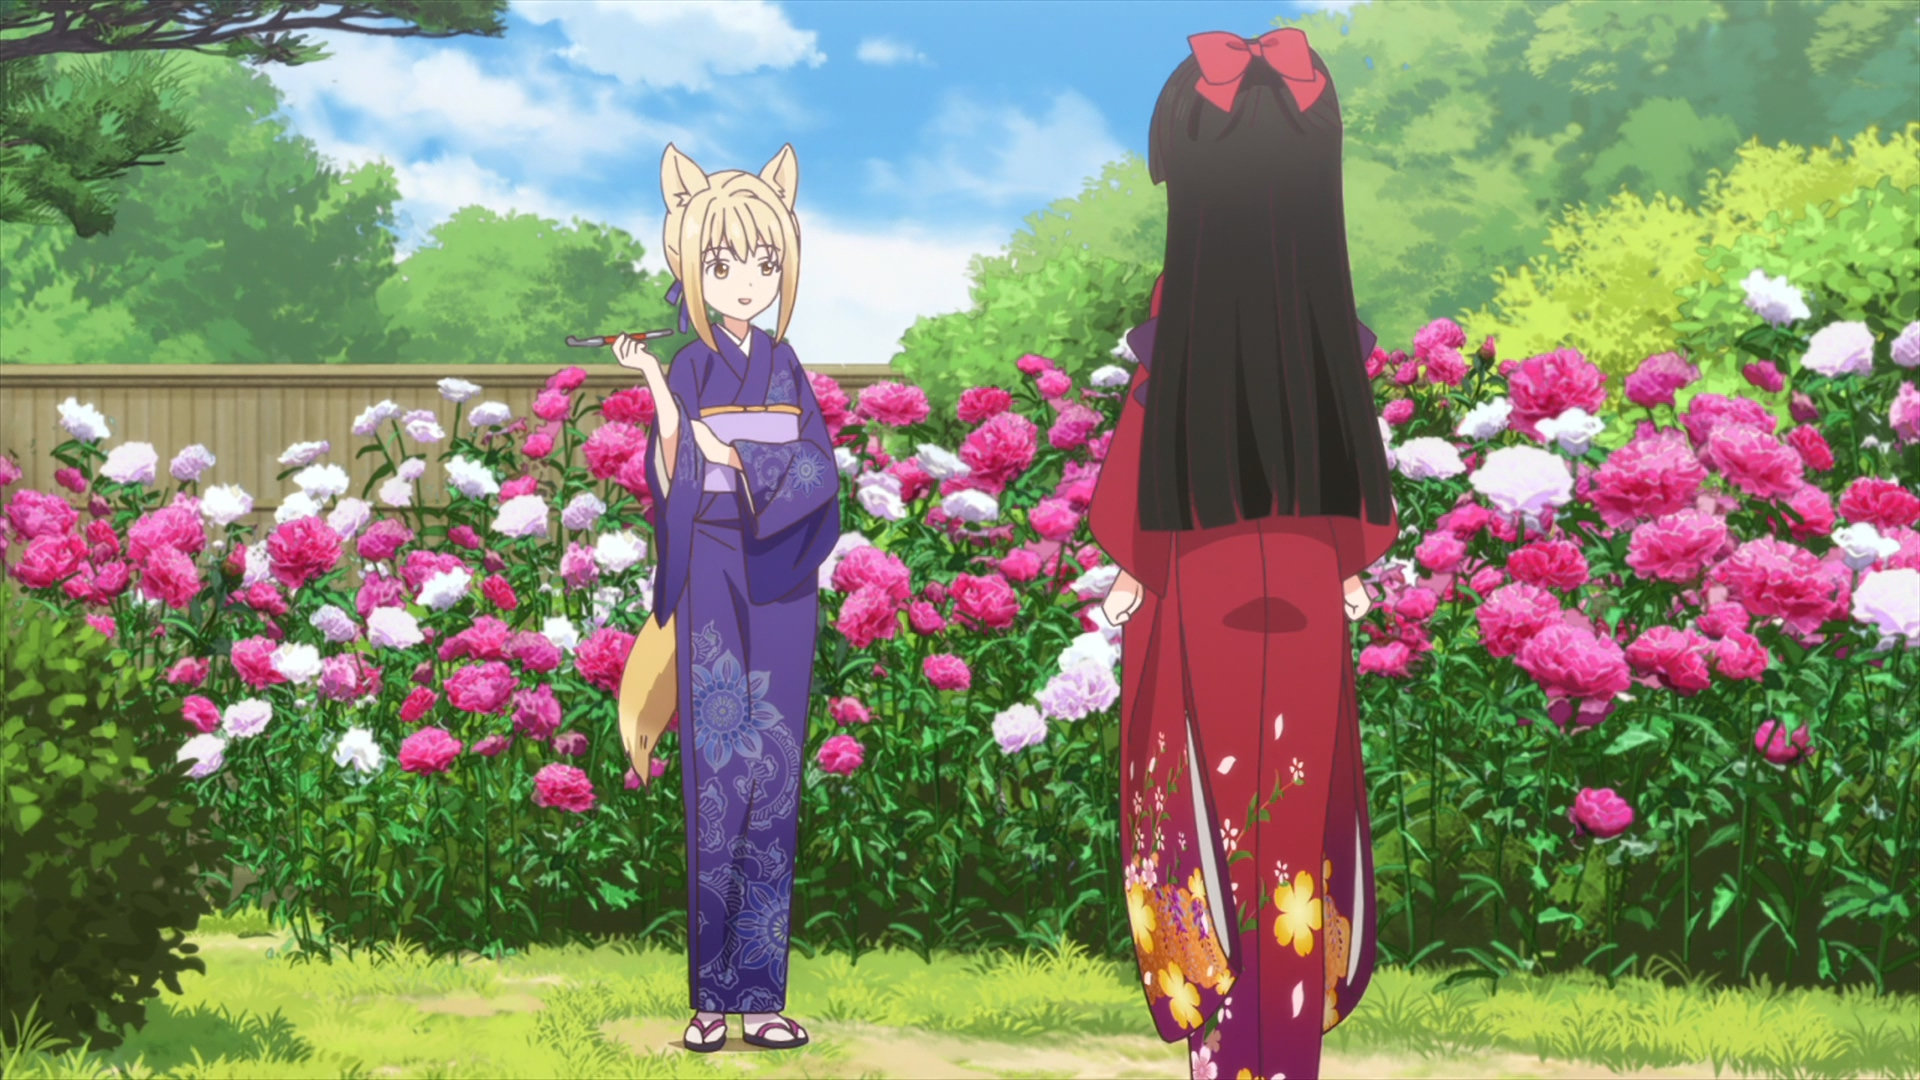其他: (1087, 26, 1396, 1080)
桐: (613, 144, 840, 1052)
